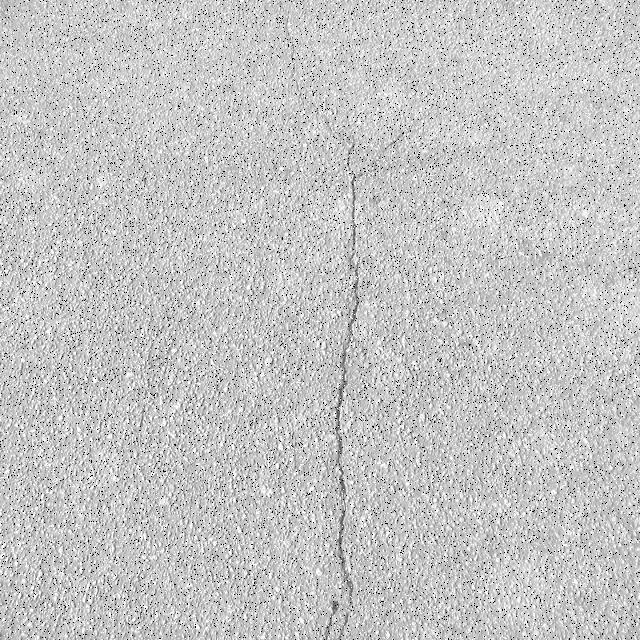minor crack: (9, 14, 172, 634), (251, 22, 382, 633)
moderate crack: (320, 428, 353, 636), (340, 212, 364, 371), (335, 125, 370, 212), (318, 605, 339, 640)
severe crack: (276, 6, 332, 155), (324, 358, 361, 449), (318, 107, 346, 151), (376, 128, 409, 160)
